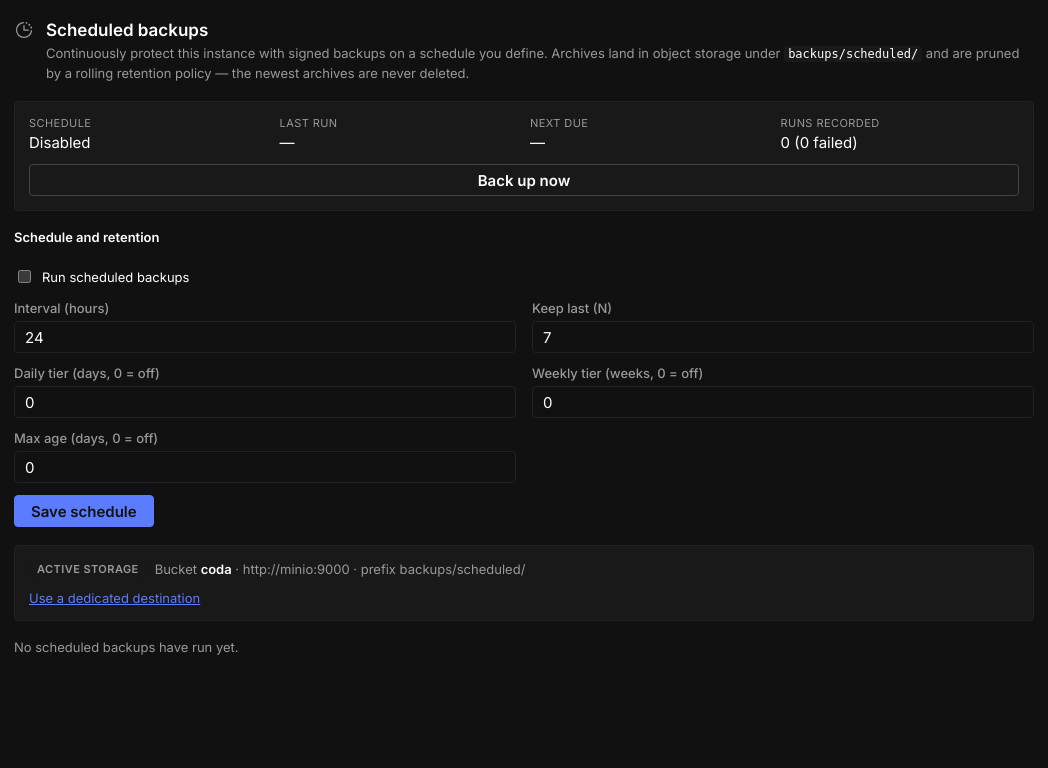
Test: ScheduledBackupsPanel › runs a backup on demand and reports the outcome
Expected: the text "Active storage" is shown, [29,560,147,578]
Click the button "Back up now". click: coordinates (524, 180)
box: [29,164,1019,196]
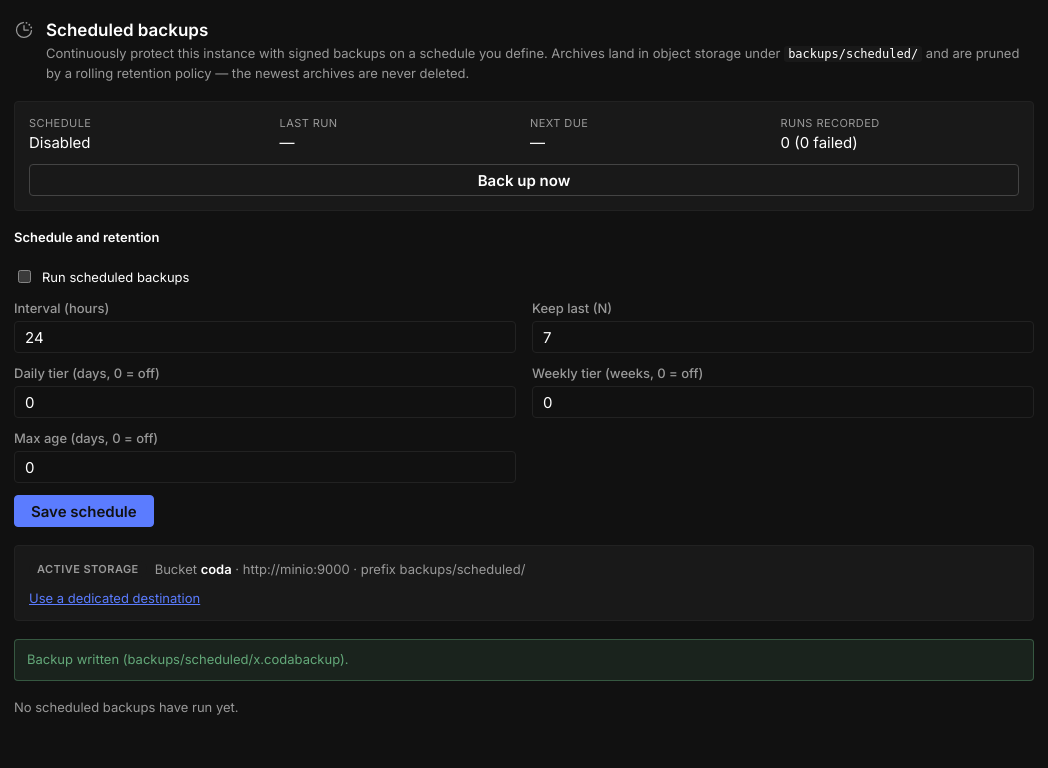
Result: the text "Backup written (backups/scheduled/x.codabackup)." is shown at [14,639,1034,680]
